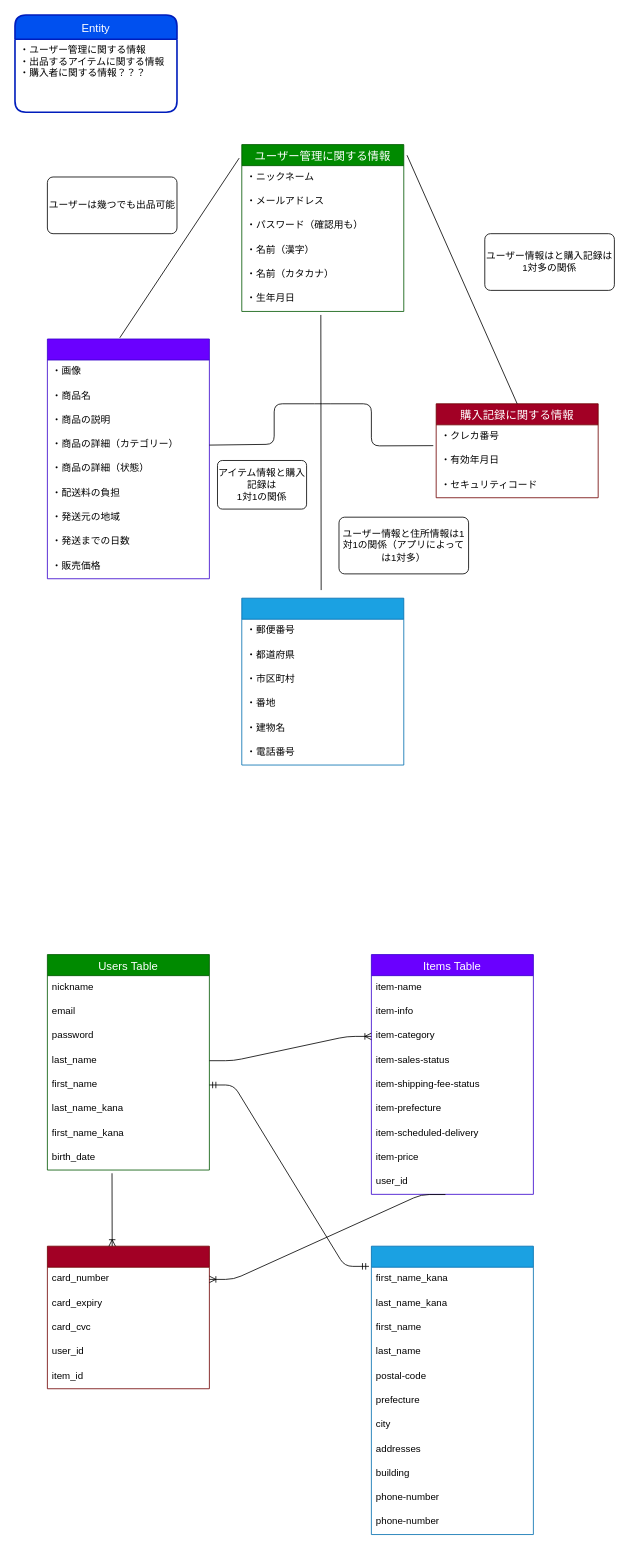
Image size: 629x1550. Some labels were removed from this diagram. The box of each missing label's shape, as (x1, y1, x2, y2) in pixels:
Addresses Table: (371, 1245, 533, 1535)
Orders Table: (47, 1245, 209, 1389)
住所情報に関する情報: (241, 597, 404, 765)
出品するアイテムに関する情報: (47, 338, 209, 579)
